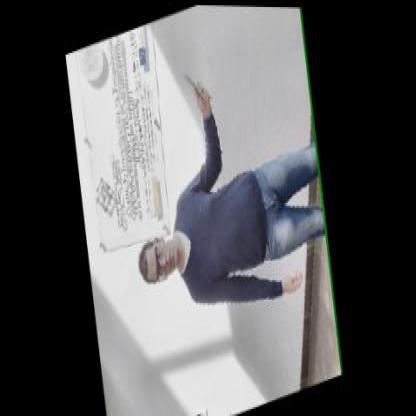knife: (180, 59, 213, 108)
